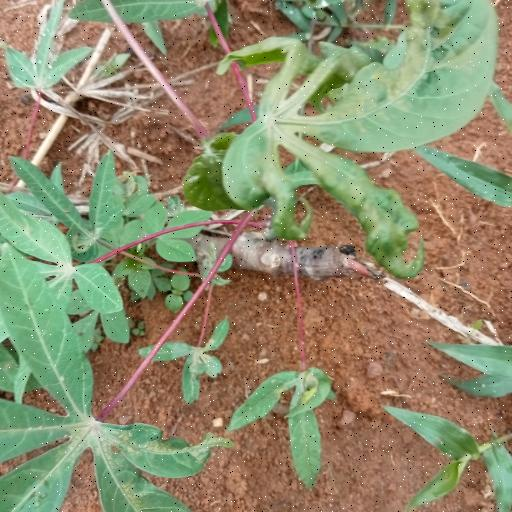Cassava_Mosaic: (226, 0, 500, 243), (0, 248, 228, 510)
